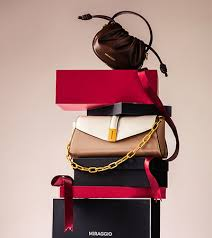bag: (66, 5, 177, 72)
